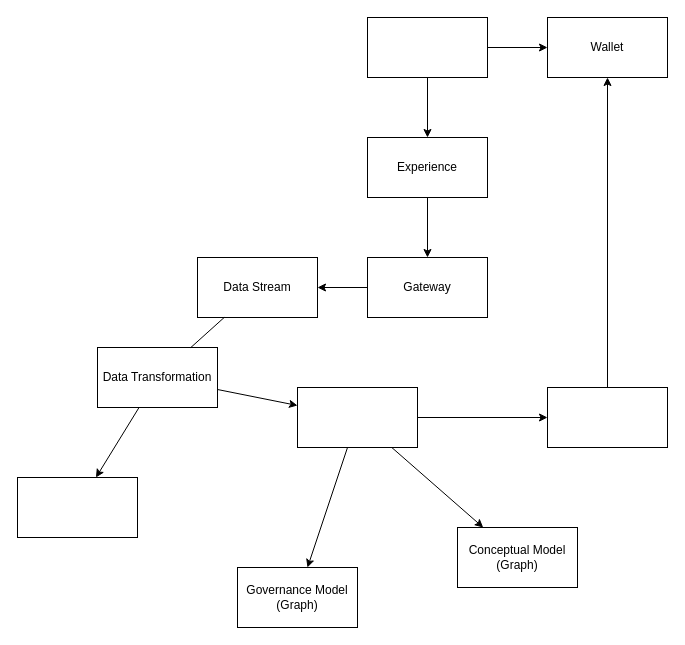
Some shapes in this 685 by 645 pixel diagram are drawn without their labels. Each missing label, with the centre of its shape:
"Agent" goes at point 427,47.
"Blockchain" goes at point 607,417.
"Data" goes at point 77,507.
"Supervisor" goes at point 357,417.
